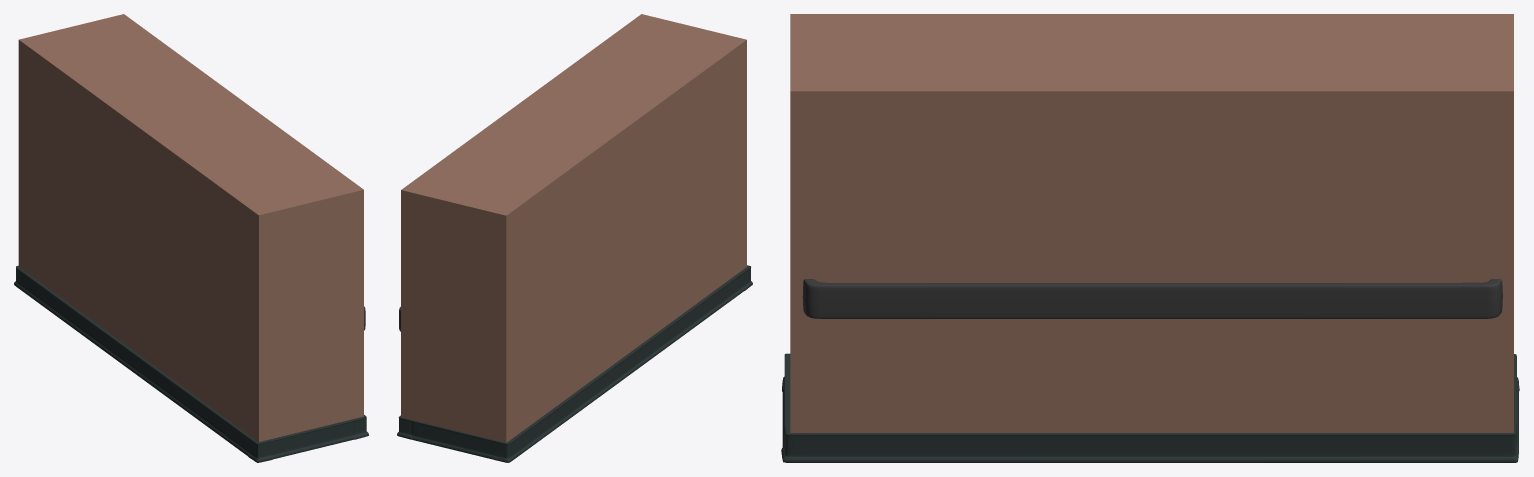
File: Thick Wall.fbx
3 views of the same model, side by side, from view 1: azimuth 30°, elevation 25°; view 2: azimuth 150°, elevation 25°; view 3: azimuth 270°, elevation 25° (orthographic). The views are drawn at different scales.
Parts seen in each view (by area): view 1: Wall1, Wall_bottom_Decor4, Wall_bottom_Decor2; view 2: Wall1, Wall_bottom_Decor4, Wall_bottom_Decor3; view 3: Wall1, Middle_Handle1, Wall_bottom_Decor1.
Part boxes in pixels (<box>): Wall1: <box>18,14,363,441</box>; Wall_bottom_Decor4: <box>14,266,273,462</box>; Wall_bottom_Decor2: <box>247,419,353,460</box>; Wall1: <box>401,14,746,442</box>; Wall_bottom_Decor4: <box>492,265,752,462</box>; Wall_bottom_Decor3: <box>411,420,514,462</box>; Wall1: <box>790,14,1513,432</box>; Middle_Handle1: <box>802,279,1502,318</box>; Wall_bottom_Decor1: <box>781,424,1518,462</box>.
Bounding box in the file's own units: 7.36 × 14.44 × 26.14.
